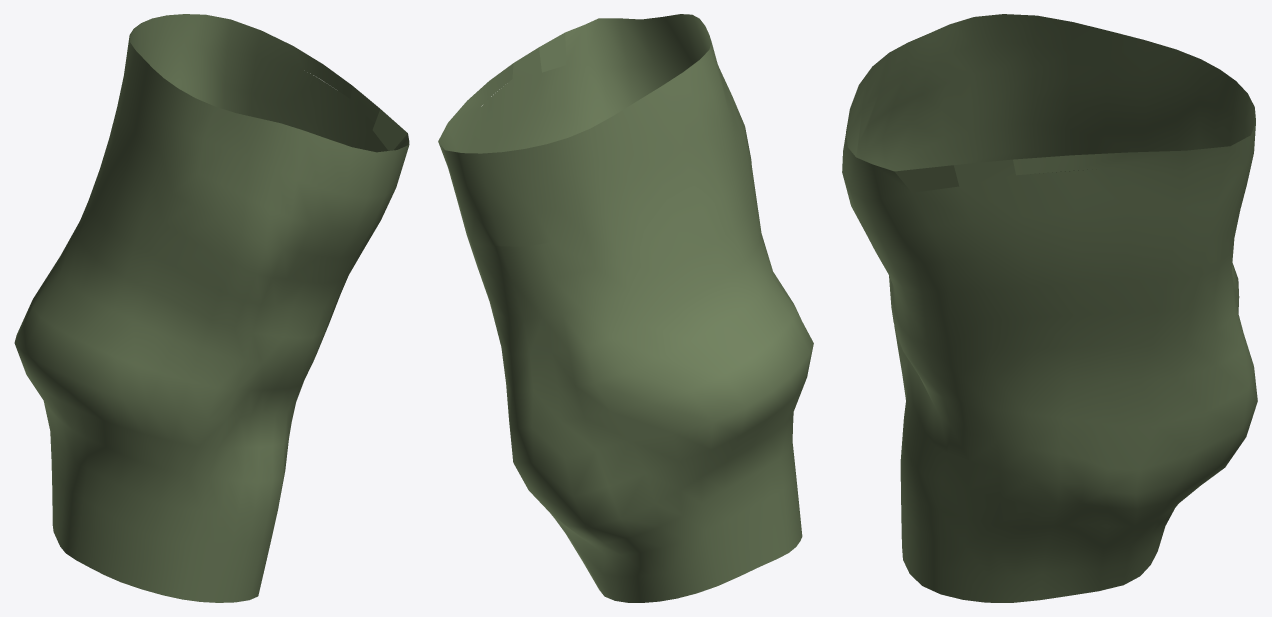
File: Pantalon_Jambe_Gauche.fbx
3 views of the same model, side by side, from view 1: azimuth 30°, elevation 25°; view 2: azimuth 150°, elevation 25°; view 3: azimuth 270°, elevation 25° (orthographic). The views are drawn at different scales.
Visible parts, largest first — view 1: polySurface90; view 2: polySurface90; view 3: polySurface90.
Part boxes in pixels (x1,y1,x2,y2): polySurface90: [14, 14, 409, 602]; polySurface90: [438, 14, 813, 602]; polySurface90: [842, 14, 1257, 602].
Bounding box in the file's own units: 30.97 × 49.84 × 33.88.
